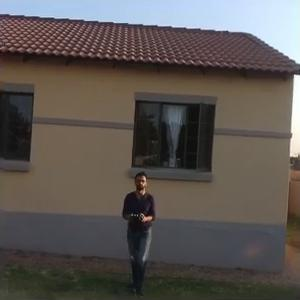follow: (118, 168, 159, 298)
